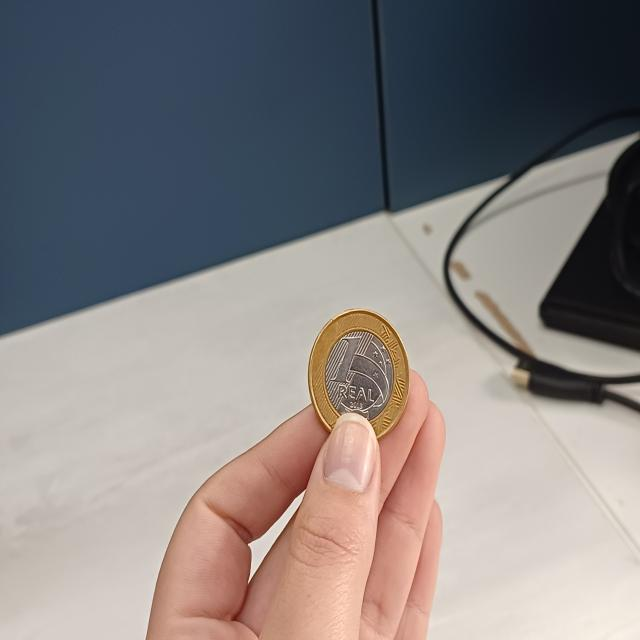1 real: (303, 304, 416, 444)
